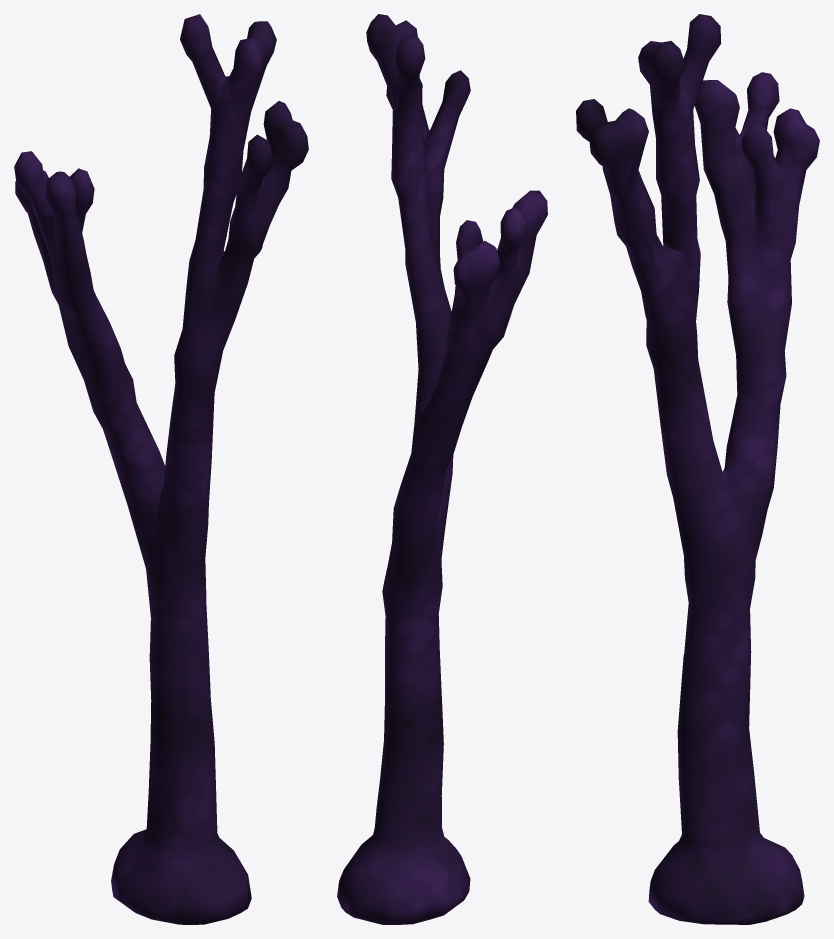
The model's file is pilar_coral_oscuro.fbx.
3 views of the same model, side by side, from view 1: azimuth 30°, elevation 25°; view 2: azimuth 150°, elevation 25°; view 3: azimuth 270°, elevation 25° (orthographic). The views are drawn at different scales.
Visible parts, largest first — view 1: coral; view 2: coral; view 3: coral.
Part boxes in pixels (box(x1,y1,x2,y2)): coral: box(14, 14, 308, 924); coral: box(337, 14, 547, 924); coral: box(576, 14, 819, 924).
Size of the model in its own units: 2 by 8 by 2.
Materials: 1 (1 with a texture image).
